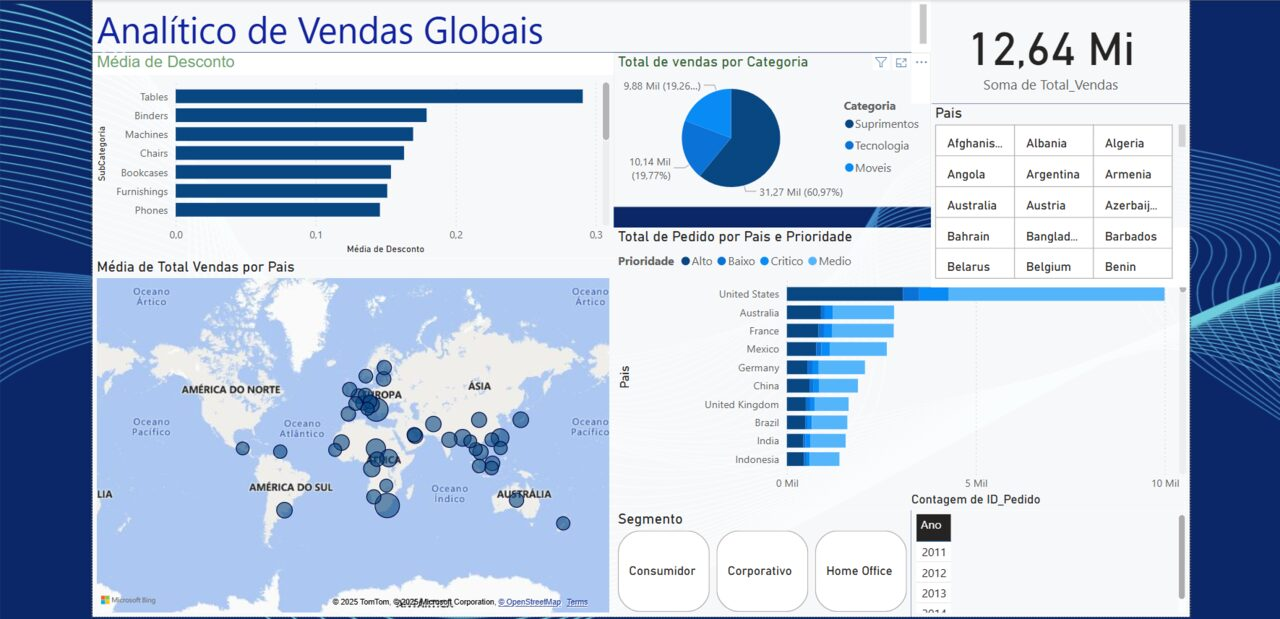

What the dashboard file says about the page in this screenshot:
{"tool":"powerbi","page":{"name":"Página 1","canvas":[1280,720],"ordinal":0},"visuals":[{"type":"card","fields":{"Values":["Sum(Vendas.Total_Vendas)"]},"box":[955,0,325.3,121.1],"z":0},{"type":"pieChart","title":"Total de vendas por Categoria","fields":{"Category":["Vendas.Categoria"],"Y":["CountNonNull(Vendas.ID_Pedido)"]},"box":[607.7,61.1,370.5,179.8],"z":1},{"type":"barChart","title":"Total de Pedido por Pais e Prioridade","fields":{"Category":["Vendas.Pais"],"Y":["CountNonNull(Vendas.ID_Pedido)"],"Series":["Vendas.Prioridade"]},"box":[607.7,265.4,672.6,330.2],"z":2},{"type":"clusteredBarChart","title":"Média de Desconto","fields":{"Category":["Vendas.SubCategoria"],"Y":["Avg(Vendas.Desconto)"]},"box":[0,61.1,607.7,239.7],"z":3},{"type":"map","title":"Média de Total Vendas por Pais","fields":{"Category":["Vendas.Pais"],"Size":["Avg(Vendas.Total_Vendas)"]},"box":[0,300.8,607.7,419.4],"z":4},{"type":"advancedSlicerVisual","fields":{"Values":["Vendas.Pais"]},"box":[978.3,121.1,302,214],"z":5},{"type":"advancedSlicerVisual","title":"Segmento","fields":{"Values":["Vendas.Segmento"]},"box":[607.7,595.5,347.3,124.7],"z":6},{"type":"tableEx","fields":{"Values":["Vendas.Data_Pedido.Variation.Hierarquia de datas.Ano"]},"box":[955,595.5,325.3,124.7],"z":7},{"type":"textbox","box":[0,0,978.3,61.1],"z":8}]}

Visuals, with their boxes on the page's 1280x720 design canvas (x1, y1, x2, y2). These are canvas units, not pixel positions in the 1280x619 screenshot, which may show the page scaled, cropped or inside an application window:
card - Sum(Vendas.Total_Vendas): bbox(955, 0, 1280, 121)
"Total de vendas por Categoria" pieChart: bbox(608, 61, 978, 241)
"Total de Pedido por Pais e Prioridade" barChart: bbox(608, 265, 1280, 596)
"Média de Desconto" clusteredBarChart: bbox(0, 61, 608, 301)
"Média de Total Vendas por Pais" map: bbox(0, 301, 608, 720)
advancedSlicerVisual - Vendas.Pais: bbox(978, 121, 1280, 335)
"Segmento" advancedSlicerVisual: bbox(608, 596, 955, 720)
tableEx - Vendas.Data_Pedido.Variation.Hierarquia de datas.Ano: bbox(955, 596, 1280, 720)
textbox: bbox(0, 0, 978, 61)
